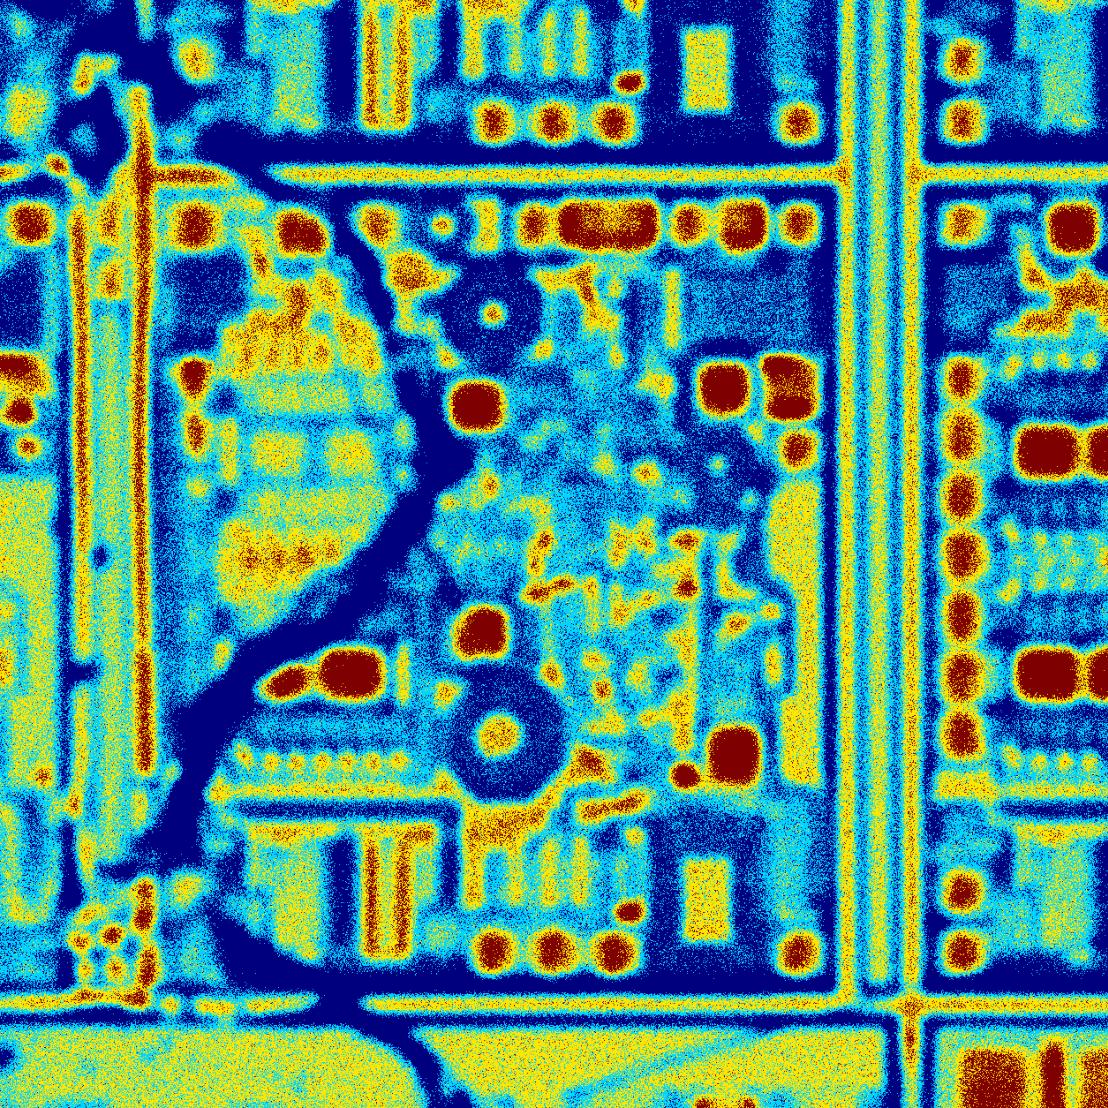Die: (153, 181, 843, 998)
Pad 1: (315, 646, 387, 704), (705, 723, 762, 789), (451, 603, 510, 663), (252, 646, 314, 704), (447, 378, 509, 435), (694, 359, 753, 418), (276, 201, 328, 257), (322, 430, 379, 477), (252, 431, 308, 476)
Pad 2: (352, 202, 402, 249), (170, 203, 218, 250), (471, 928, 517, 975), (592, 929, 639, 975), (532, 928, 577, 974), (775, 931, 821, 975), (171, 358, 214, 402), (777, 429, 819, 474), (172, 415, 214, 459), (515, 202, 552, 247), (670, 204, 709, 245), (782, 204, 818, 246)
